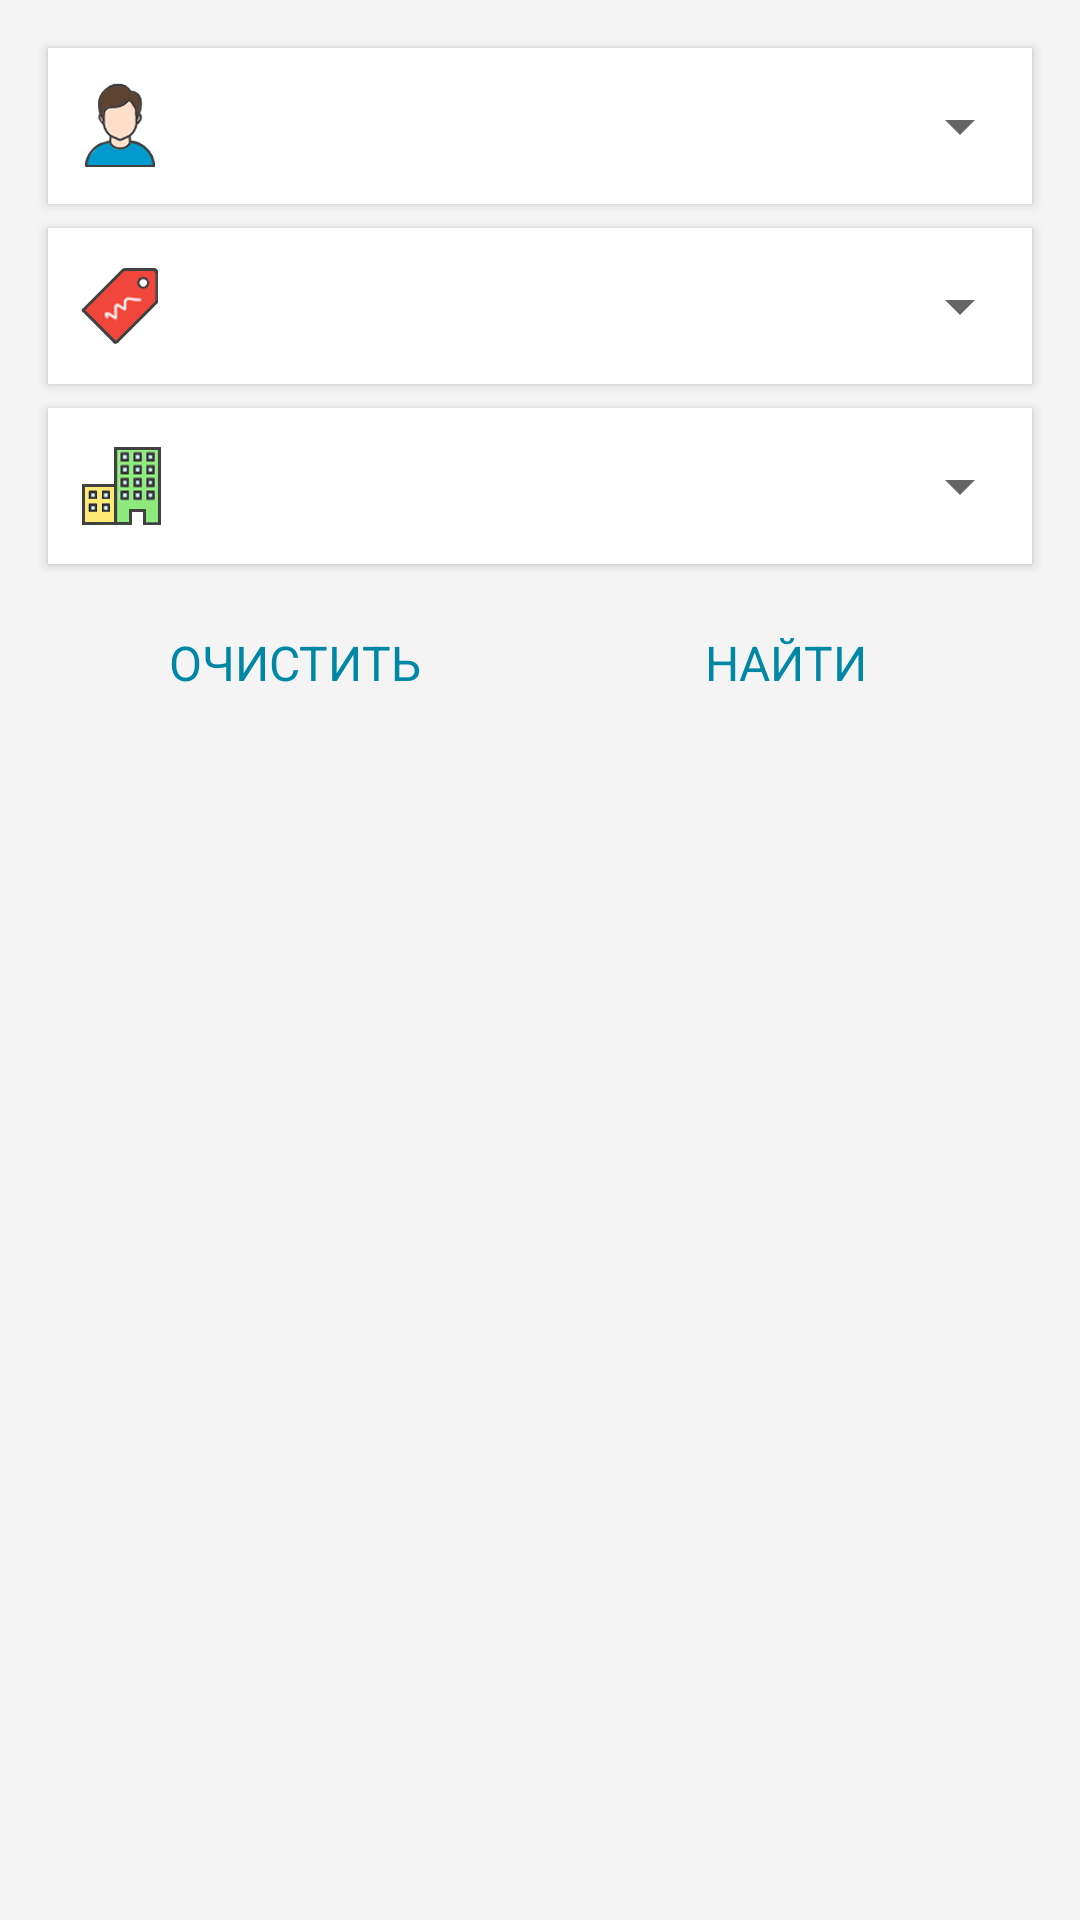

Named icons in this screenshot (1080 × 1920) and their bounding boxes, (x1, y1, x2, y2):
city: (82, 447, 161, 525)
person: (85, 83, 155, 167)
pricetag: (81, 268, 158, 344)
